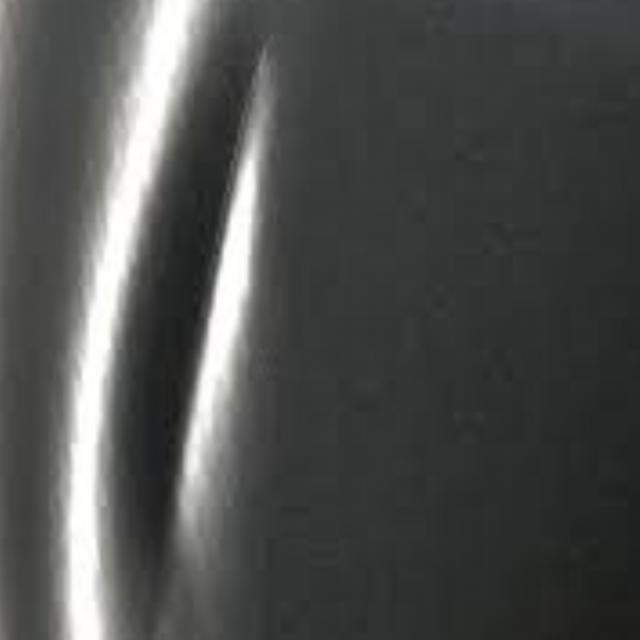dents: (77, 19, 280, 630)
